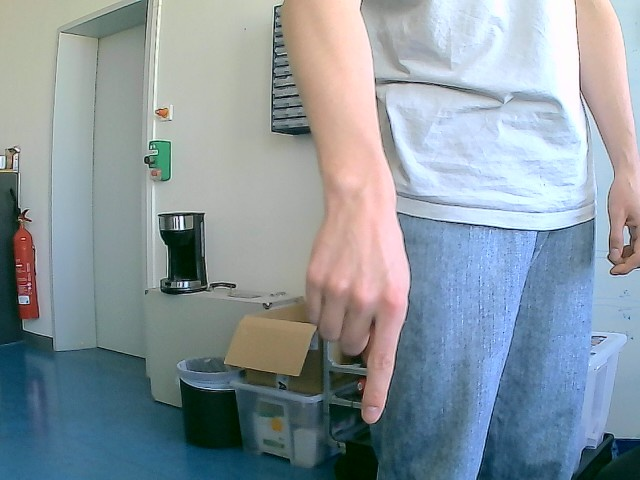down: (303, 204, 412, 425)
no_gesture: (602, 166, 640, 278)
